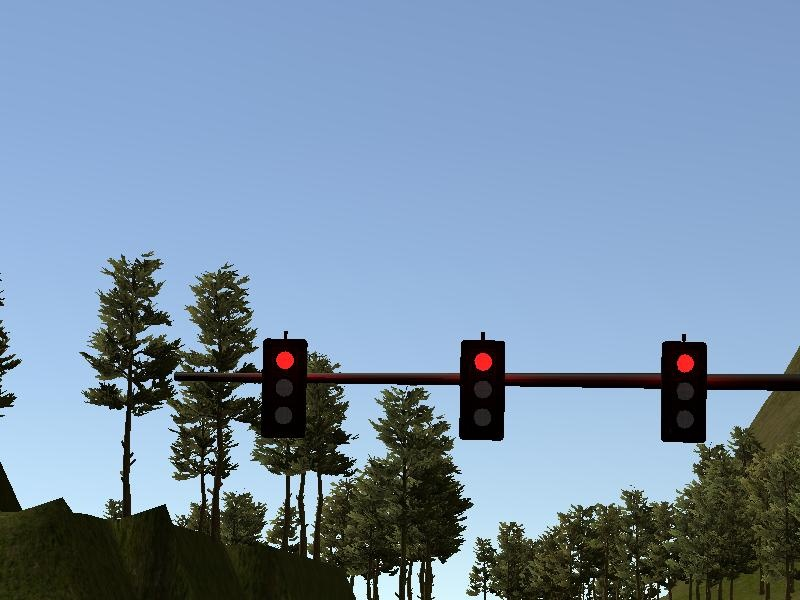Red: (658, 339, 709, 445), (457, 336, 506, 442), (260, 336, 309, 439)
